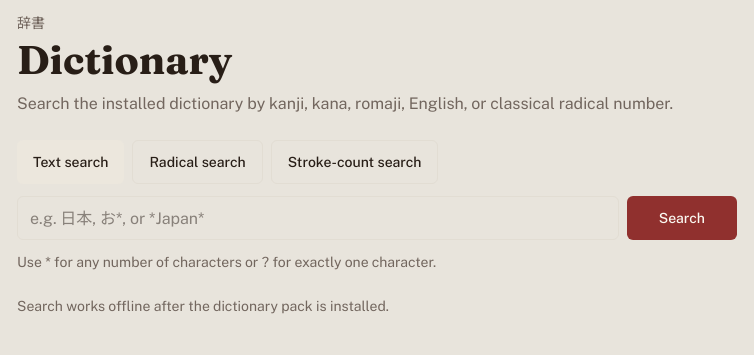
DictionaryScreen › shows the detected input type while entering a dictionary query
Type "okane" into the search field named "Dictionary search" at (318, 218), box [17,196,619,240]
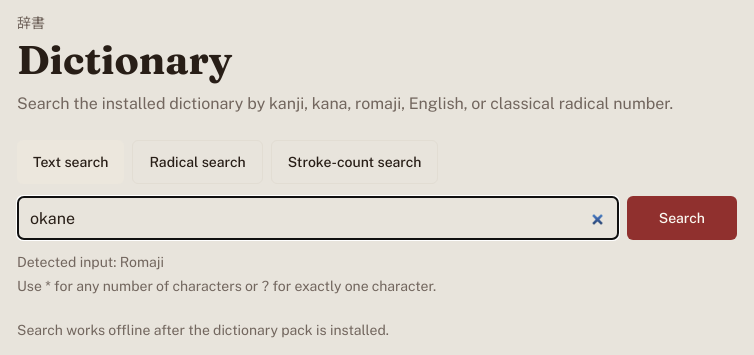
Expected: the text with test id "dictionary-input-type" reads "Detected input: Romaji", [17,254,164,270]
